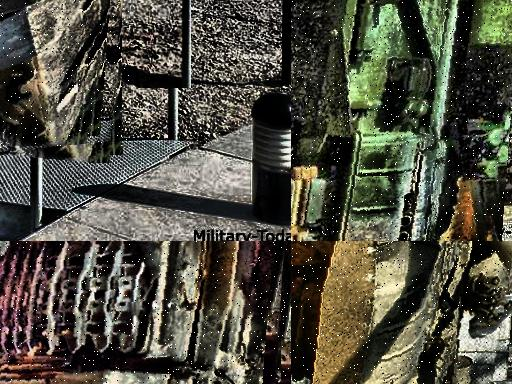tanks: (292, 1, 512, 242), (1, 242, 281, 384), (292, 242, 496, 384), (1, 1, 115, 149)
